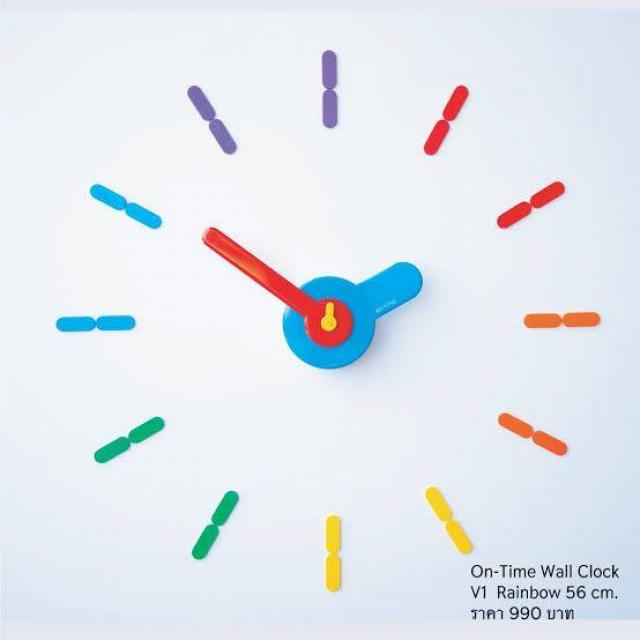clock: (108, 48, 606, 576)
